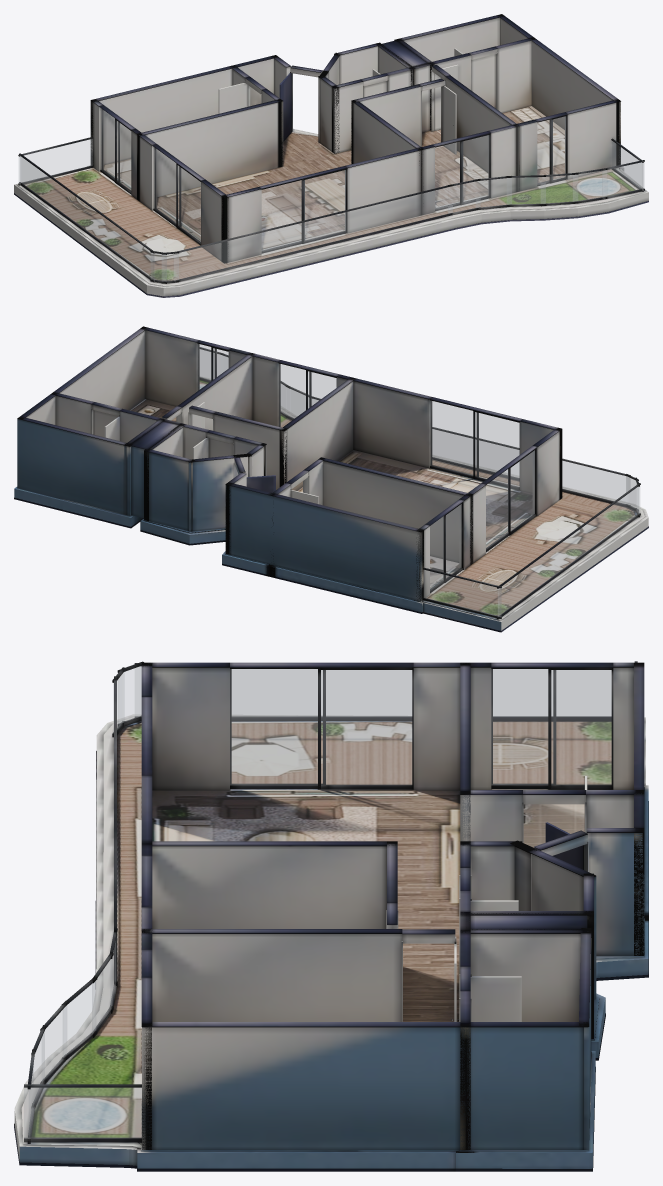
3 renders of one model, top to bottom at view 1: azimuth 30°, elevation 25°; view 2: azimuth 150°, elevation 25°; view 3: azimuth 270°, elevation 25°, orthographic. The views are drawn at different scales.
Visible parts, largest first — view 1: plan, railg1_m, glass2_m, railg3_m, glass3_m, glass0_m, railg0_m, glass1_m, glass4_m, railg4_m, railg7_m, railg6_m (+6 smaller); view 2: plan, glass2_m, railg3_m, railg1_m, glass0_m, railg0_m, glass3_m, glass1_m, glass4_m; view 3: plan, glass0_m, railg3_m, glass1_m, railg2_m, railg7_m, railg6_m, railg11_m, railg8_m.
Boxes of the visible parts, x1,y1,x2,y2 form: plan: (14, 14, 648, 297); railg1_m: (174, 186, 452, 280); glass2_m: (262, 170, 345, 250); railg3_m: (20, 157, 154, 279); glass3_m: (435, 135, 488, 208); glass0_m: (154, 148, 200, 241); railg0_m: (19, 139, 92, 183); glass1_m: (101, 108, 130, 190); glass4_m: (537, 116, 565, 183); railg4_m: (602, 162, 644, 197); railg7_m: (507, 177, 545, 204); railg6_m: (541, 175, 577, 203); plan: (14, 326, 648, 632); glass2_m: (430, 401, 519, 486); railg3_m: (498, 487, 639, 616); railg1_m: (433, 429, 629, 503); glass0_m: (486, 451, 534, 549); railg0_m: (423, 570, 501, 616); glass3_m: (279, 364, 336, 427); glass1_m: (430, 504, 461, 590); glass4_m: (198, 344, 228, 390); plan: (14, 661, 648, 1171); glass0_m: (230, 669, 411, 785); railg3_m: (135, 666, 610, 716); glass1_m: (491, 669, 611, 785); railg2_m: (24, 1088, 141, 1138); railg7_m: (63, 981, 95, 1057); railg6_m: (42, 1006, 66, 1081); railg11_m: (119, 666, 140, 723); railg8_m: (92, 959, 112, 1033).
Size of the model in its own units: 17.25 by 2.62 by 10.54.
2 materials, 1 textured.
